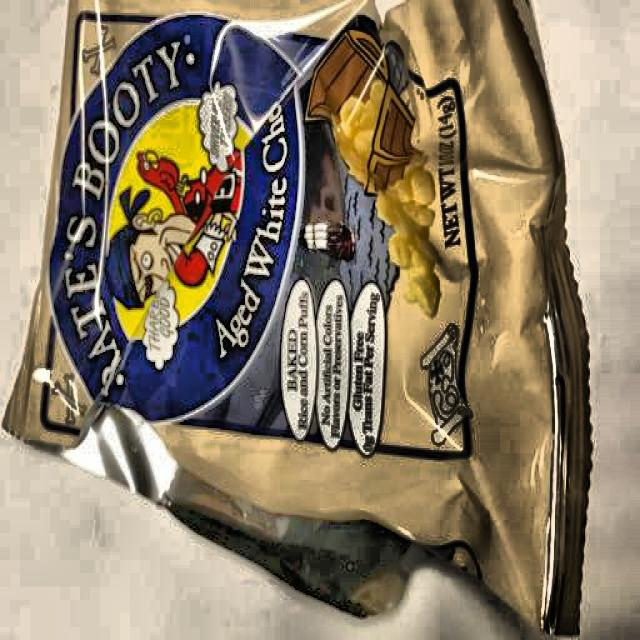trash: (52, 3, 588, 625)
